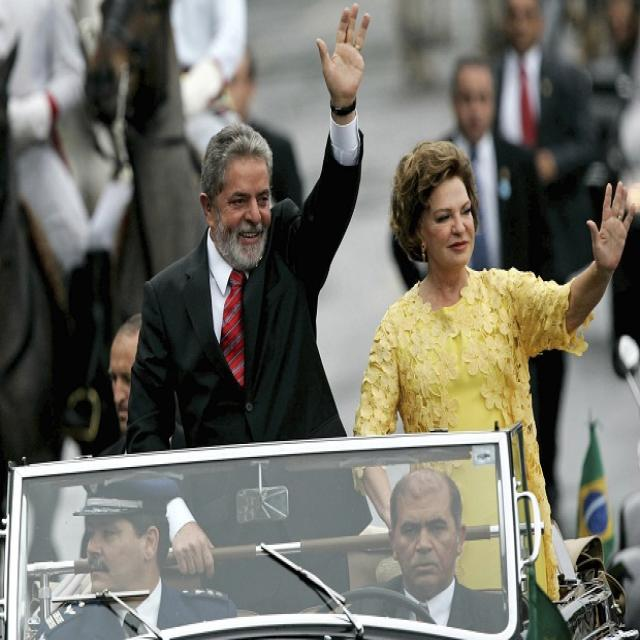body: (123, 0, 377, 617), (349, 135, 638, 607), (0, 1, 295, 457), (486, 0, 597, 535), (389, 48, 563, 298), (35, 468, 245, 638), (340, 467, 526, 640), (552, 0, 639, 248), (96, 313, 188, 458)
